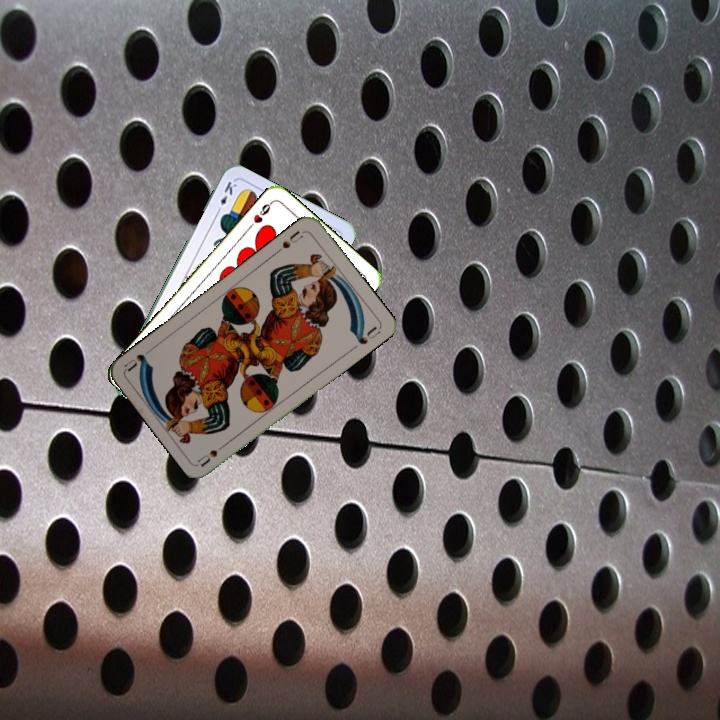EK: (213, 177, 239, 216)
H9: (245, 197, 275, 231)
SU: (194, 438, 231, 469), (272, 227, 307, 256)
